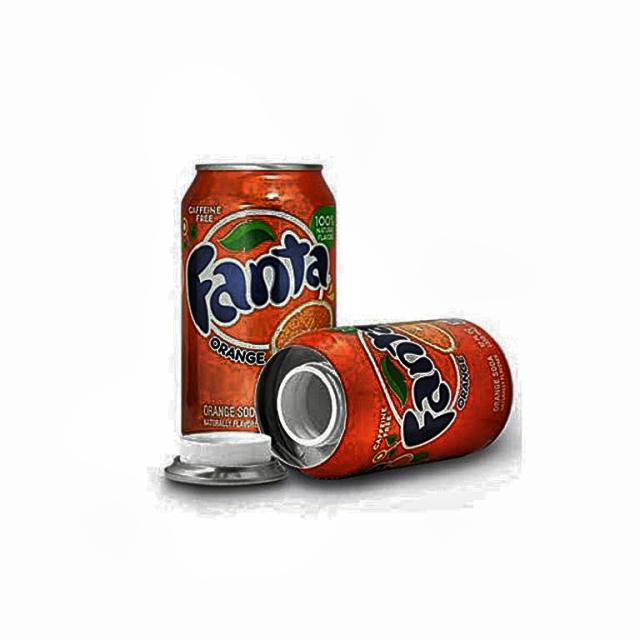Cans: (172, 146, 342, 454), (246, 320, 518, 480)
